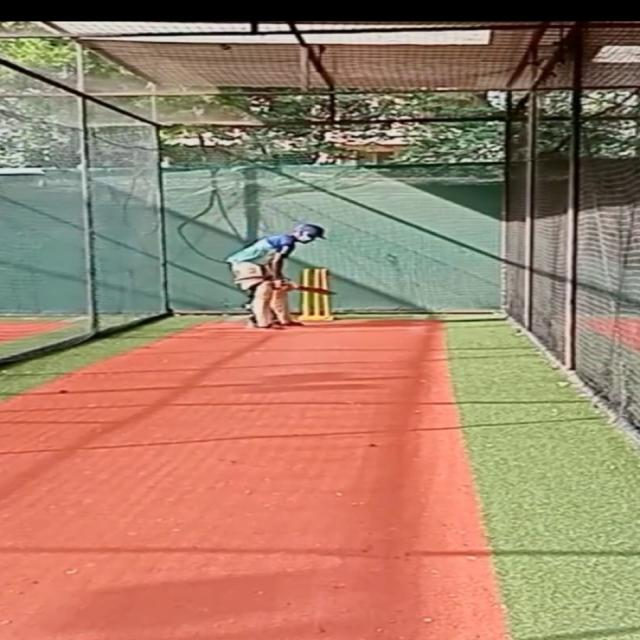stump: (300, 267, 335, 322)
